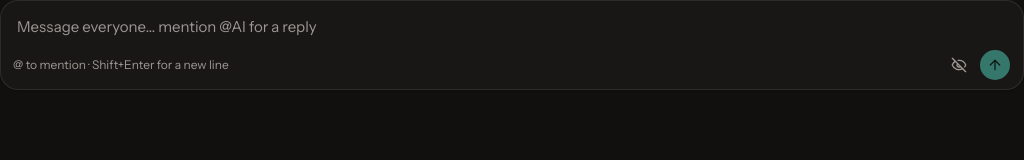
Scenario: Composer mentions › editing inside a chip makes it plain text; Backspace after a chip removes it
The width and height of the screenshot is (1024, 160).
Later steps or results of the test are not shown.
Type "@" into the text box labelled "Message" at (512, 27), box [9,9,1015,45]
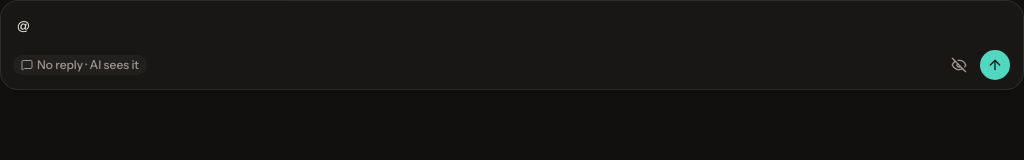
Press Enter in the text box named "Message", box [9,9,1015,45]
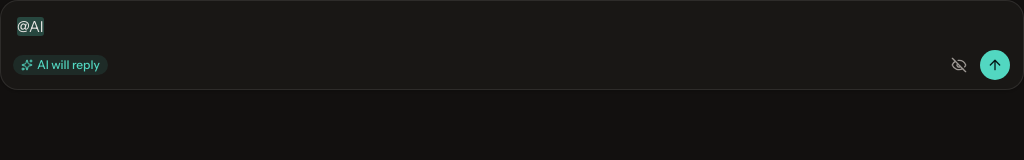
Replace the text in the text box named "Message" with "@AI hi" at (512, 27), box [9,9,1015,45]
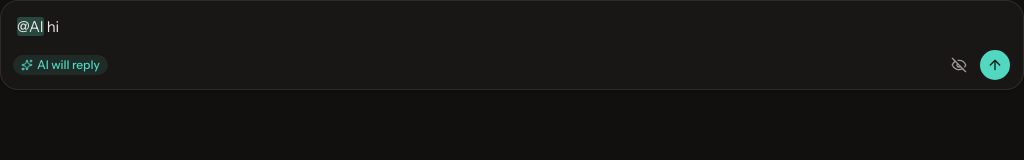
Expected: the element with test id "intent-preview" has attribute data-intent="reply", [13,55,108,75]
Replace the text in the text box named "Message" with "@Ax hi" at (512, 27), box [9,9,1015,45]
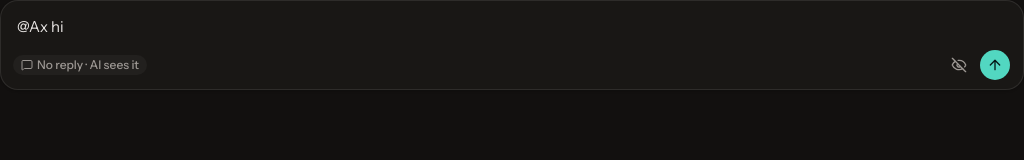
Expected: the element with test id "intent-preview" has attribute data-intent="context", [13,55,147,75]
